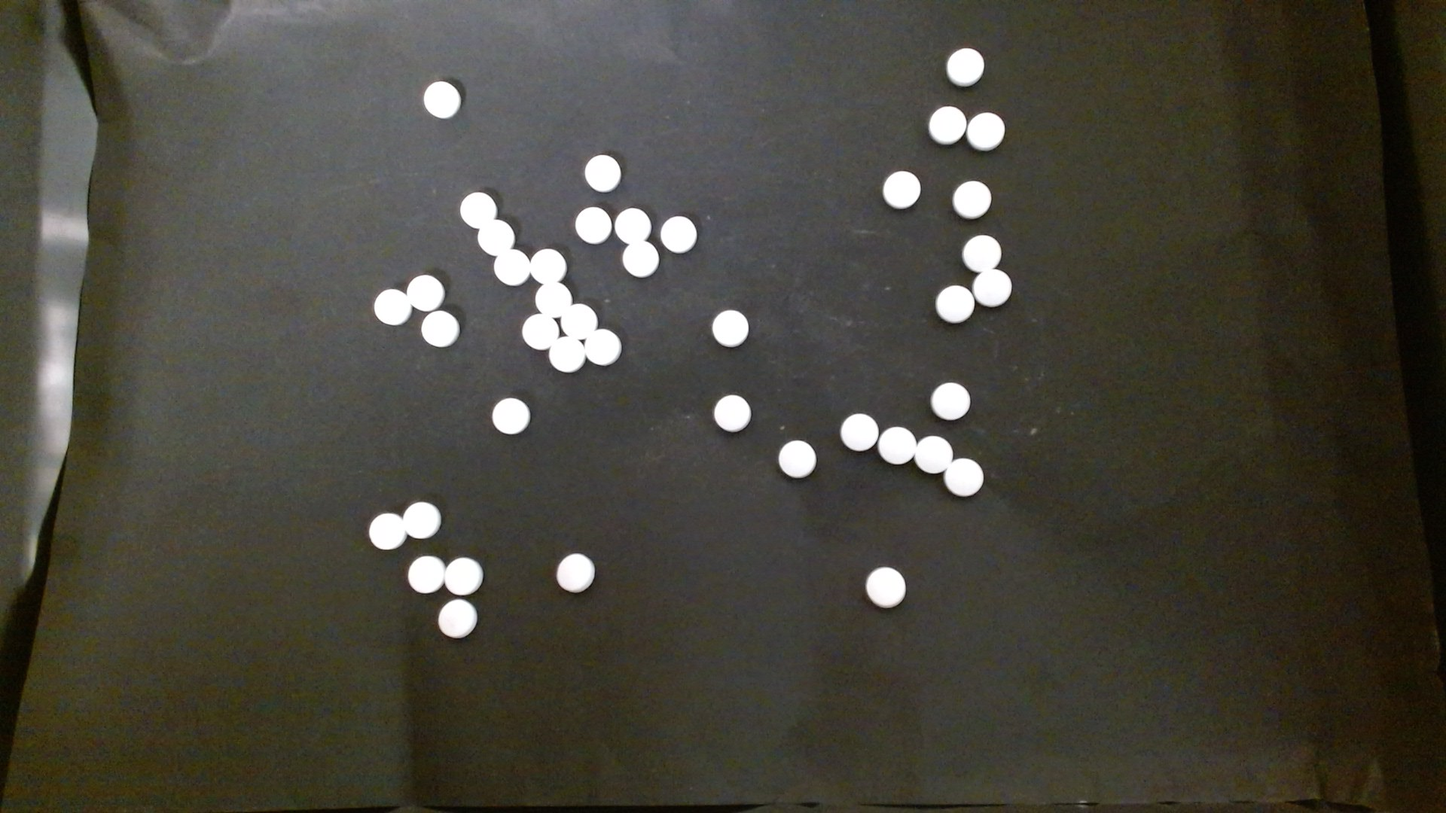Circle: (952, 178, 995, 221), (865, 565, 907, 608), (930, 381, 972, 422), (880, 169, 921, 209), (927, 104, 967, 145), (838, 412, 878, 452), (437, 599, 477, 639), (555, 553, 594, 593), (966, 111, 1005, 151), (962, 233, 1002, 272), (944, 458, 983, 498), (945, 47, 984, 86), (935, 285, 974, 324), (777, 441, 816, 480), (712, 394, 752, 432), (972, 268, 1012, 306), (710, 309, 749, 347), (491, 397, 530, 435), (878, 426, 916, 465), (423, 80, 462, 118), (914, 435, 952, 474), (407, 554, 445, 593), (459, 190, 498, 228), (584, 153, 622, 191), (423, 309, 460, 347), (368, 512, 405, 550), (444, 557, 482, 594), (402, 501, 440, 538), (407, 273, 444, 310), (584, 329, 621, 366), (374, 288, 410, 325), (575, 206, 611, 243), (494, 248, 530, 285), (476, 218, 513, 254), (530, 248, 566, 284), (615, 207, 651, 243), (662, 215, 697, 252), (550, 336, 585, 373), (535, 281, 572, 316), (622, 242, 658, 277), (522, 313, 557, 349), (560, 303, 596, 337)
